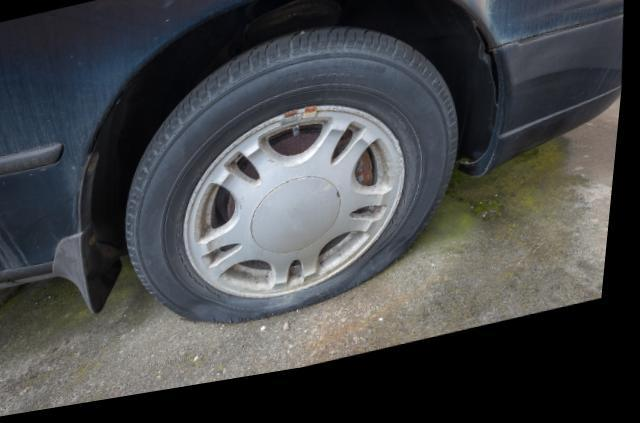tire flat: (130, 34, 463, 332)
